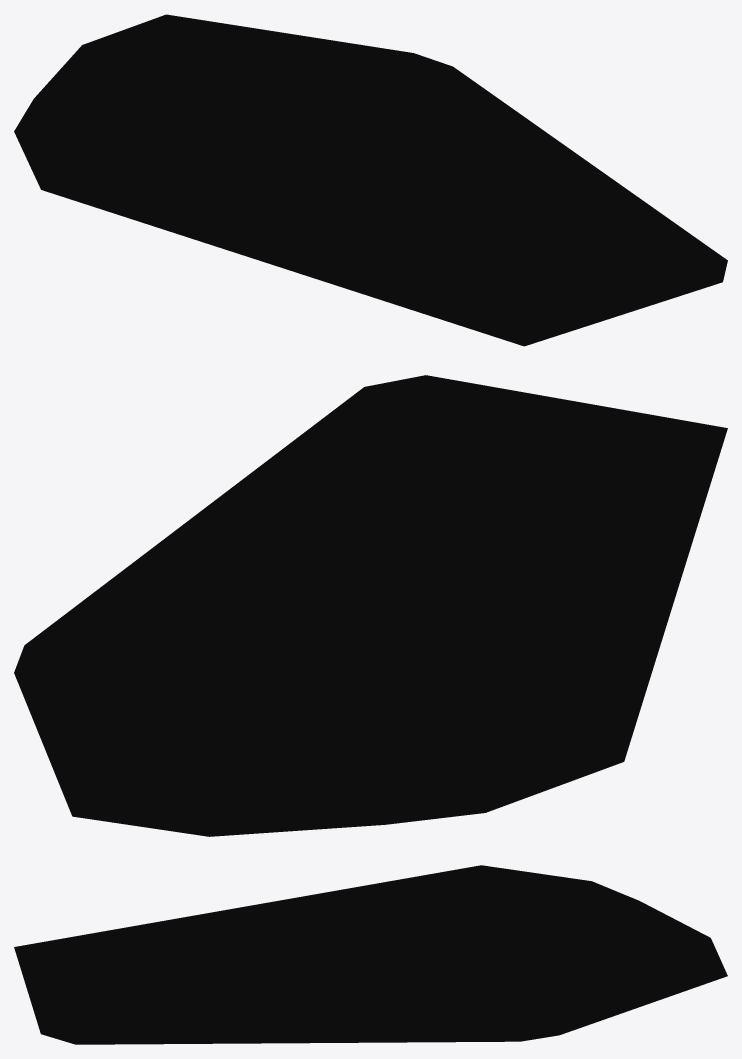
The model's file is kam2.fbx.
The picture shows the model from 3 angles, top to bottom: view 1: azimuth 30°, elevation 25°; view 2: azimuth 150°, elevation 25°; view 3: azimuth 270°, elevation 25°; orthographic projection. The views are drawn at different scales.
Parts seen in each view (by area): view 1: kam2; view 2: kam2; view 3: kam2.
Boxes of the visible parts, x1,y1,x2,y2 form: kam2: [14, 14, 727, 346]; kam2: [14, 375, 727, 836]; kam2: [14, 865, 727, 1044].
Bounding box in the file's own units: 2549 × 0.00255 × 4284.
